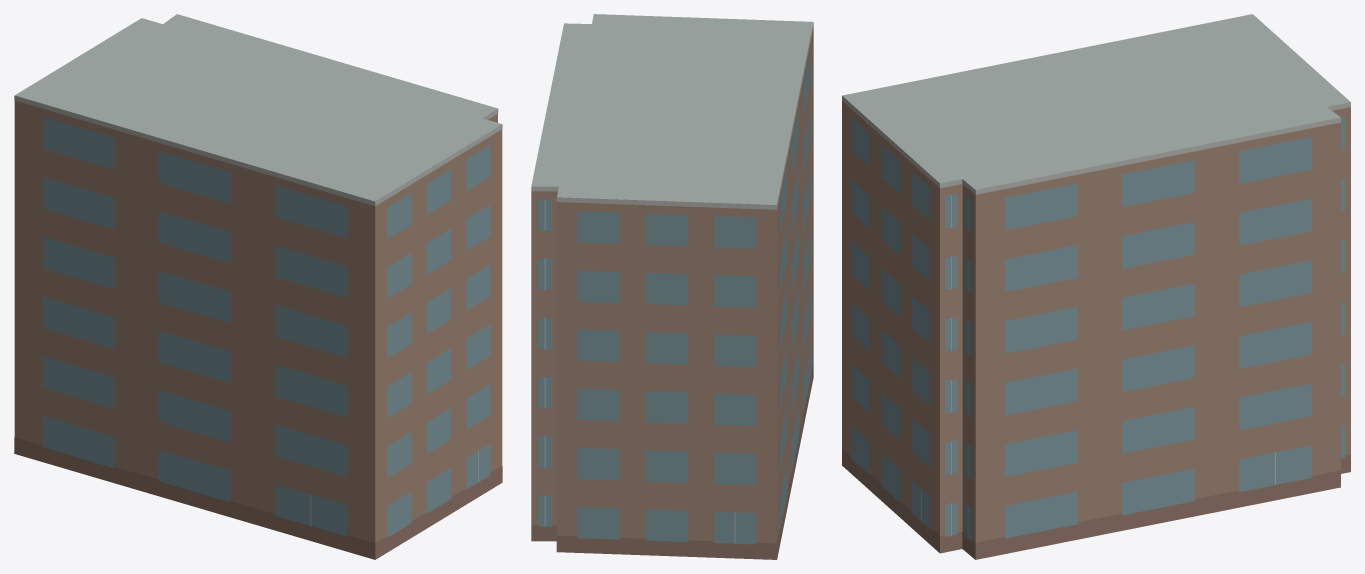
The model's file is survey-upis-32742245.glb.
3 renders of one model, left to right at view 1: azimuth 30°, elevation 25°; view 2: azimuth 150°, elevation 25°; view 3: azimuth 270°, elevation 25°, orthographic. The views are drawn at different scales.
Visible parts, largest first — view 1: survey-upis-32742245.tmp; view 2: survey-upis-32742245.tmp; view 3: survey-upis-32742245.tmp.
Boxes of the visible parts, x1=… form: survey-upis-32742245.tmp: x1=14, y1=14, x2=502, y2=559; survey-upis-32742245.tmp: x1=531, y1=14, x2=813, y2=559; survey-upis-32742245.tmp: x1=842, y1=14, x2=1350, y2=559.
Size of the model in its own units: 18.58 by 18.2 by 22.7.
